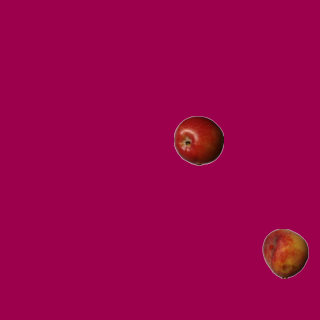Apple Braeburn: (173, 115, 223, 165)
Peach: (260, 228, 310, 278)
